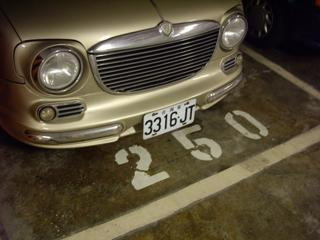plate: (143, 99, 197, 137)
